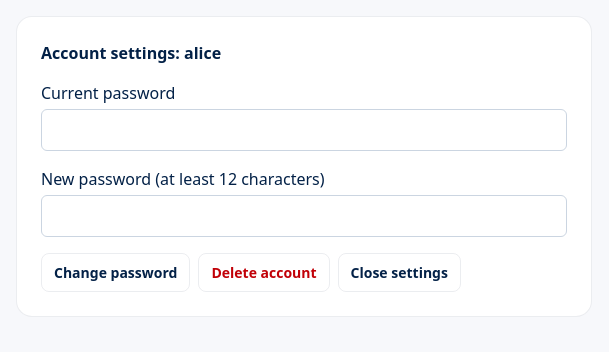
Test: reports network errors
Click the button "Delete account": (264, 272) top-left (198, 253), bottom-right (330, 292)
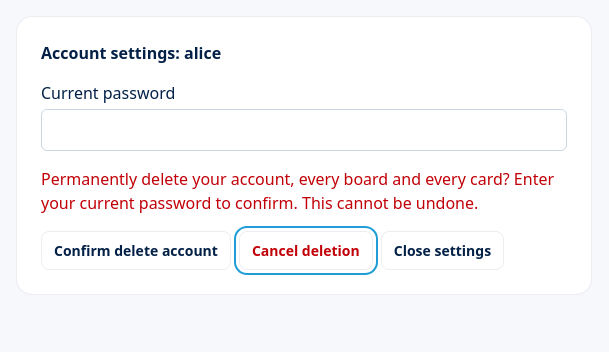
In the password field labelled "Current password": (304, 130) top-left (41, 109), bottom-right (567, 151), type "password"
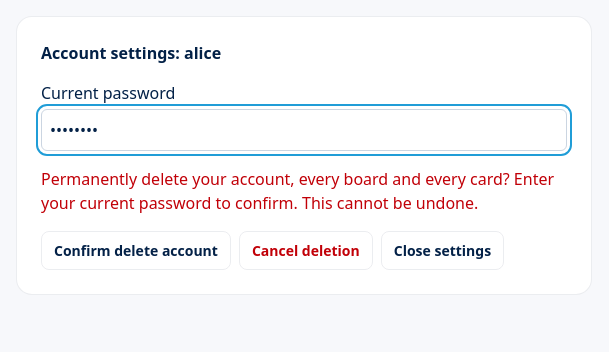
Click the button "Confirm delete account": (136, 250) top-left (41, 231), bottom-right (231, 270)
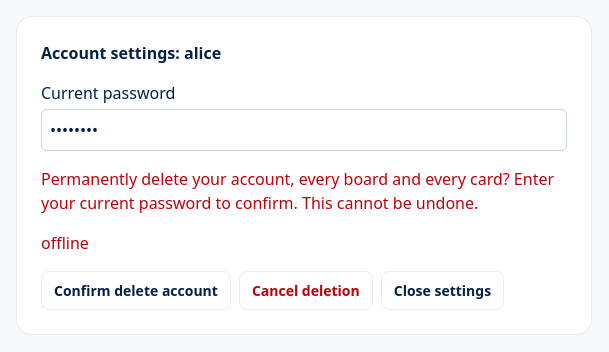
Check: the message reads "offline", box top-left (41, 232), bottom-right (89, 254)
